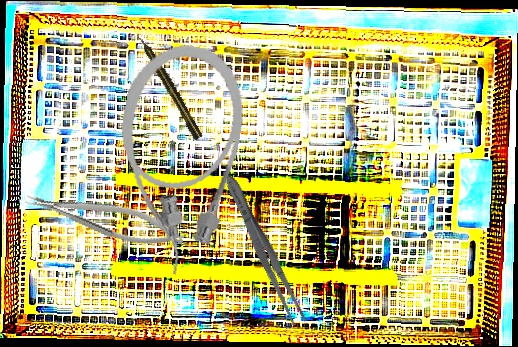Cannula: (98, 36, 254, 282)
Dressing Forceps: (218, 170, 311, 330)
Handpiece: (135, 33, 204, 141)
Needle Holder: (22, 178, 188, 258)
